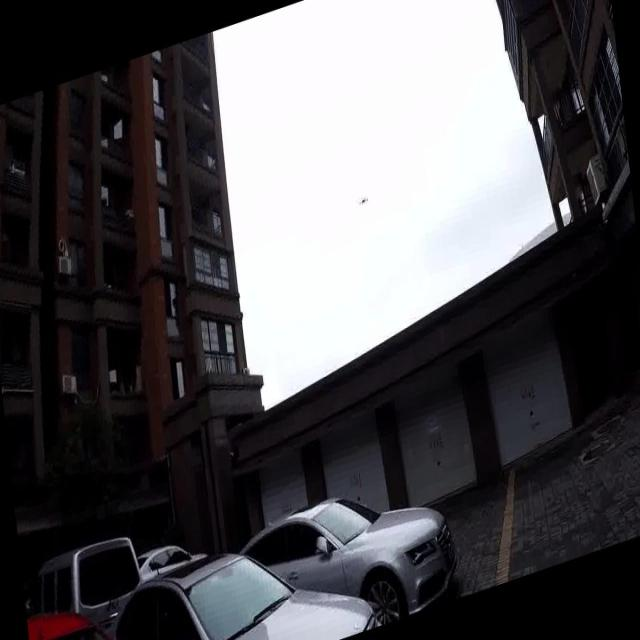drone: (356, 190, 371, 217)
